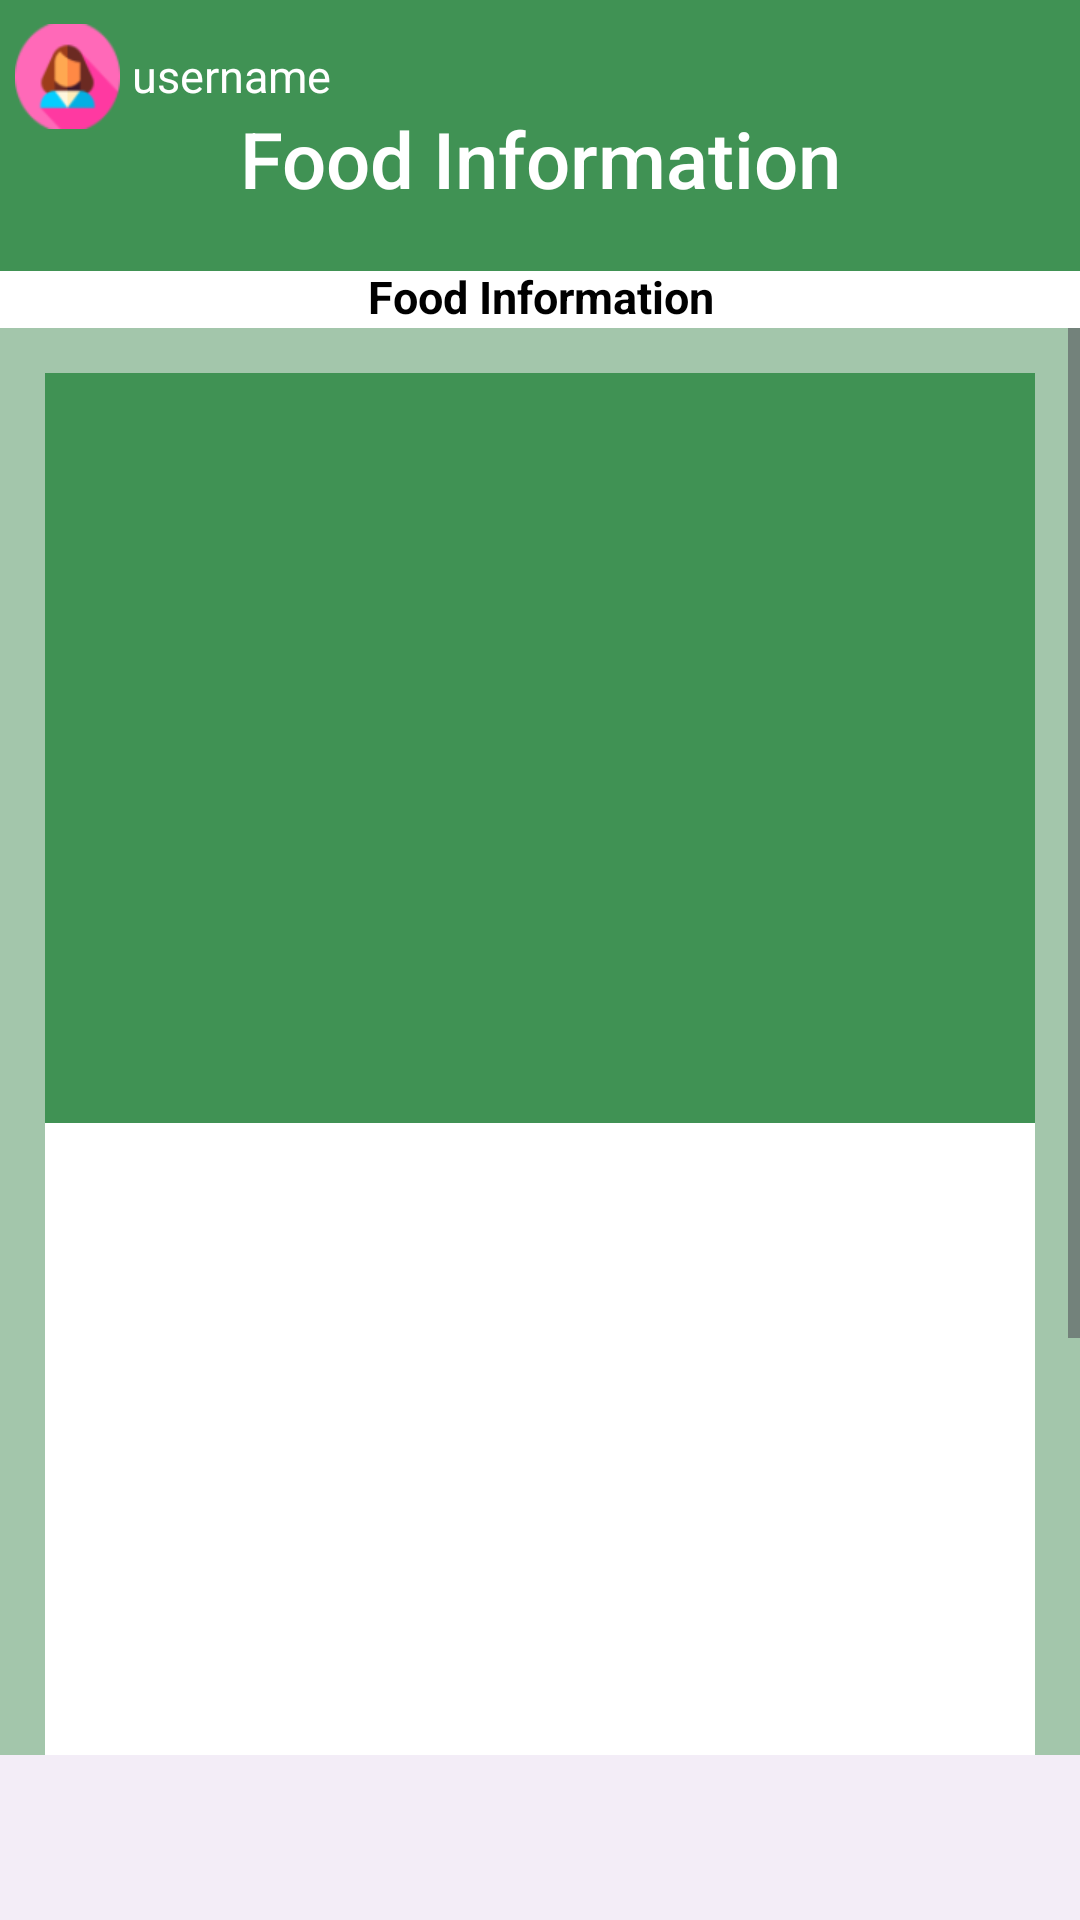

Where icons sit on this 1080x1920 app screen, as bbox=[x1, y1, x2, y2]:
femaleicon: bbox=[15, 24, 120, 129]
